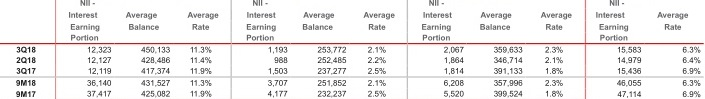column: (595, 1, 643, 98), (478, 1, 524, 99), (125, 1, 171, 98), (420, 1, 466, 98), (302, 1, 347, 99), (656, 1, 701, 99), (68, 1, 112, 99), (245, 1, 289, 99), (186, 1, 219, 99), (362, 1, 395, 98), (540, 1, 573, 98), (16, 1, 37, 99)
row: (1, 45, 705, 55), (1, 78, 705, 87), (1, 11, 705, 19), (1, 23, 705, 31), (1, 34, 705, 42), (1, 56, 705, 64), (1, 67, 705, 75), (1, 89, 705, 97), (1, 1, 705, 7)
